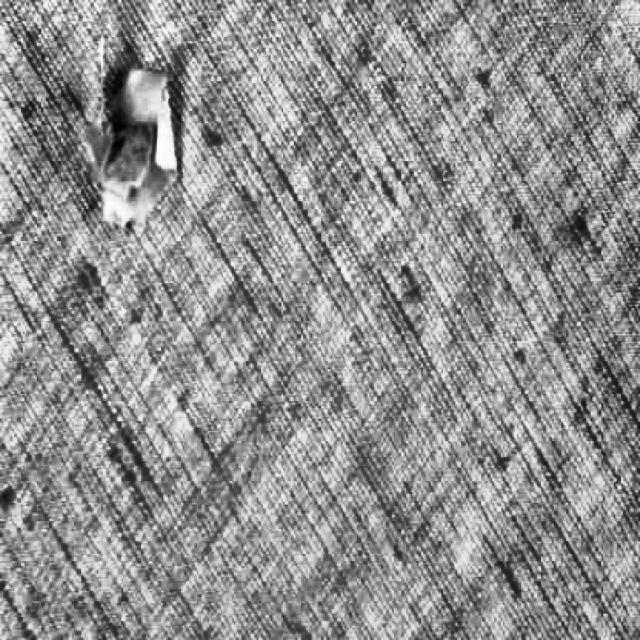hole: (78, 30, 203, 233)
